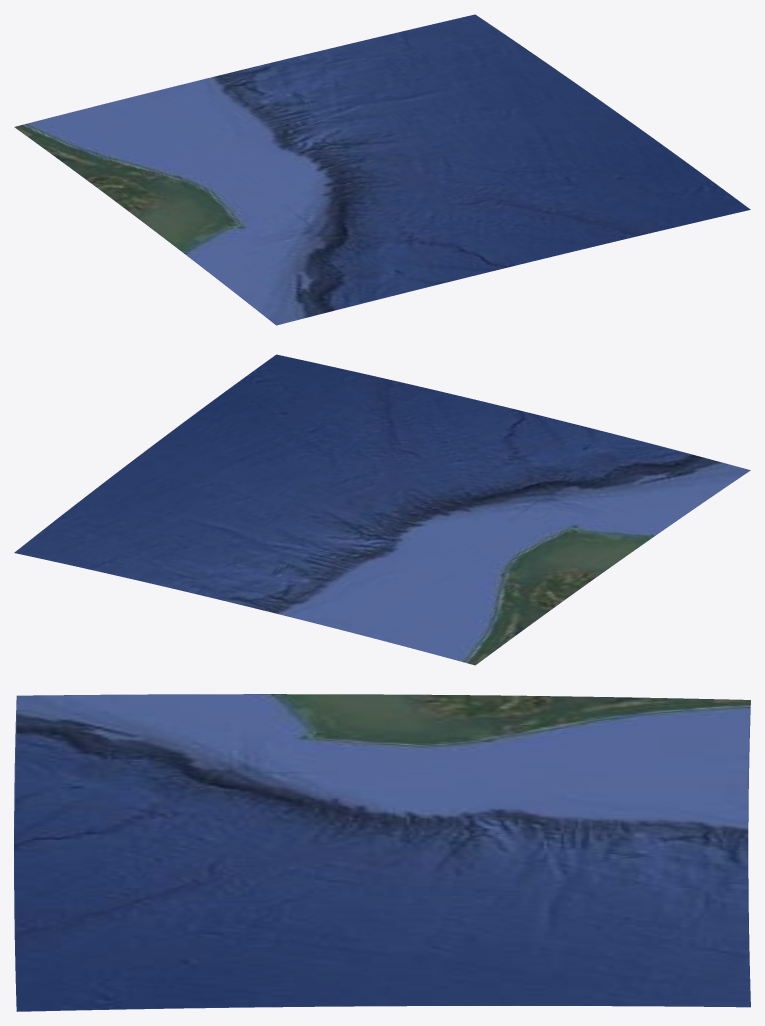
The picture shows the model from 3 angles, top to bottom: view 1: azimuth 30°, elevation 25°; view 2: azimuth 150°, elevation 25°; view 3: azimuth 270°, elevation 25°; orthographic projection. The views are drawn at different scales.
Bounding box in the file's own units: 258866 × 2564 × 255033.
1 material, 1 textured.
